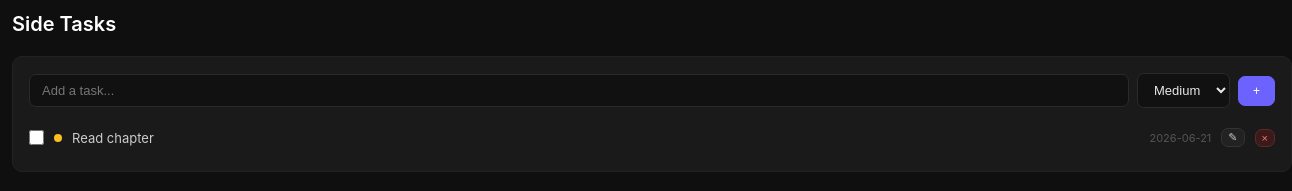
Test: Tasks — Edit task text › saves edited task on Enter
Click the button "✎".
click(1233, 138)  # box [1221, 128, 1244, 147]
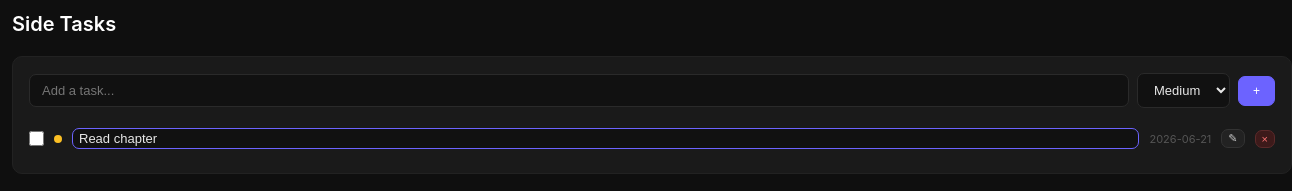
Replace the text in the field showing "Read chapter" with "Read chapter 5" at [606, 138], box [72, 128, 1140, 149]
Then press Enter
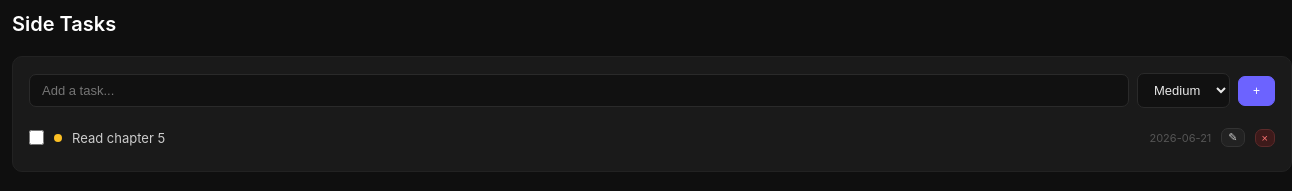
Expected: the text "Read chapter 5" is shown, [72, 130, 165, 146]
